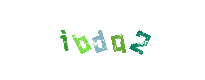2: (100, 0, 180, 80)
B: (59, 0, 139, 80)
D: (62, 0, 142, 80)
I: (45, 0, 125, 80)
Q: (65, 0, 145, 80)
